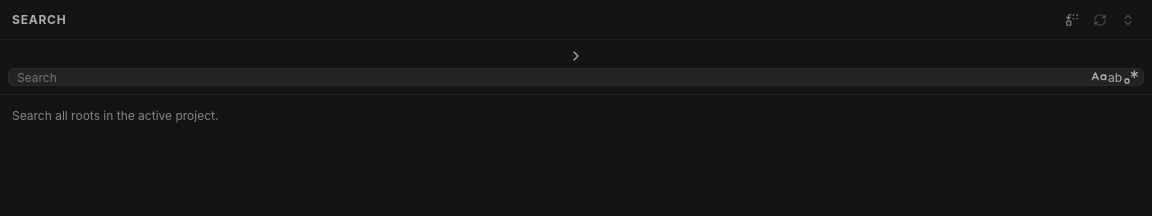
it: Workspace Search view › keeps Search filters beside the query instead of adding a details row
Expected: the search field named "Search text" is shown, [17,69,1087,85]
Expected: the field labelled "Files to include" is not shown
Click the button named "Match case": (1099, 77) [1091,69,1107,85]
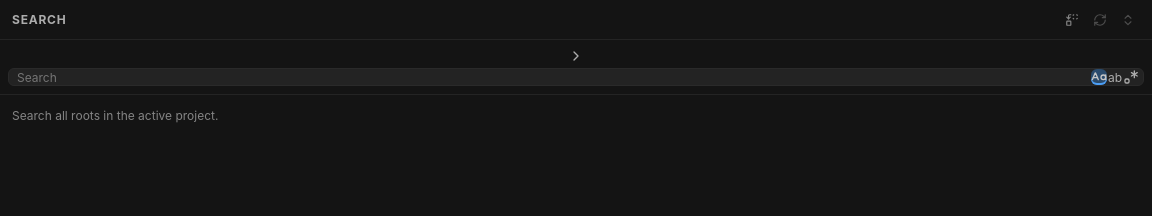
Click the button with aria-label "Match whole word": (1115, 77) [1108,70,1122,84]
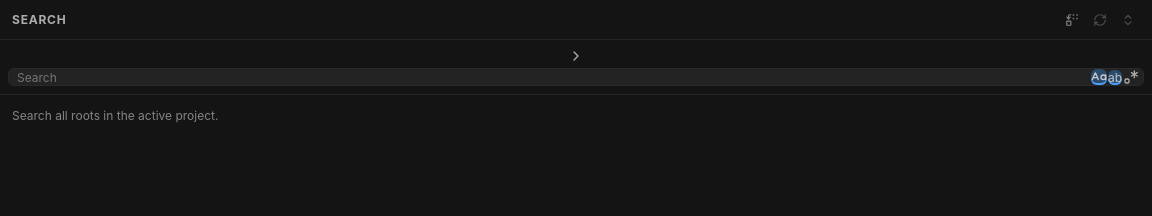
Now the button named "Match case" is pressed, box [1091,69,1107,85]
Now the button with aria-label "Match whole word" is pressed, box [1108,70,1122,84]
Click the button named "Show Search filters": (576, 56) [8,48,1144,64]
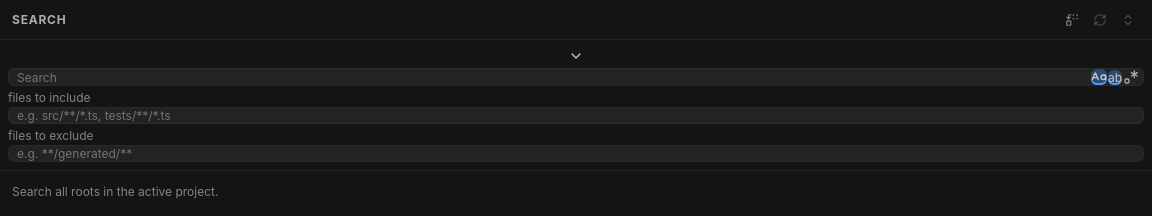
Now the field labelled "files to include" is shown, box [8,107,1144,124]
Now the field labelled "files to exclude" is shown, box [8,145,1144,162]
Now the button named "Hide Search filters" is expanded, box [8,48,1144,64]
